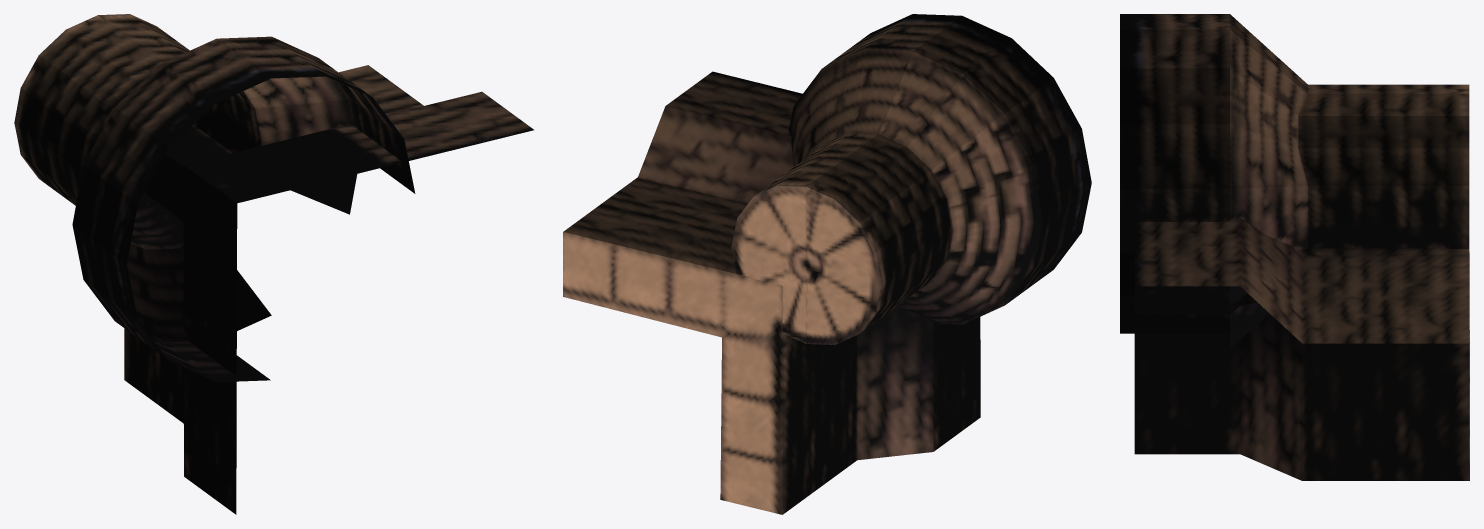
The model's file is ex_2ColumnCorner1.obj.
The picture shows the model from 3 angles, left to right: view 1: azimuth 30°, elevation 25°; view 2: azimuth 150°, elevation 25°; view 3: azimuth 270°, elevation 25°; orthographic projection. The views are drawn at different scales.
Parts seen in each view (by area): view 1: ex_Column0.005_Cylind; view 2: ex_Column0.005_Cylind; view 3: ex_Column0.005_Cylind.
Part boxes in pixels (x1=…): ex_Column0.005_Cylind: x1=14, y1=14, x2=533, y2=514; ex_Column0.005_Cylind: x1=563, y1=14, x2=1091, y2=514; ex_Column0.005_Cylind: x1=1120, y1=14, x2=1469, y2=480.
Bounding box in the file's own units: 196 × 196 × 142.
